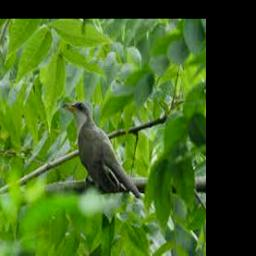Cuckoo: (62, 101, 141, 198)
